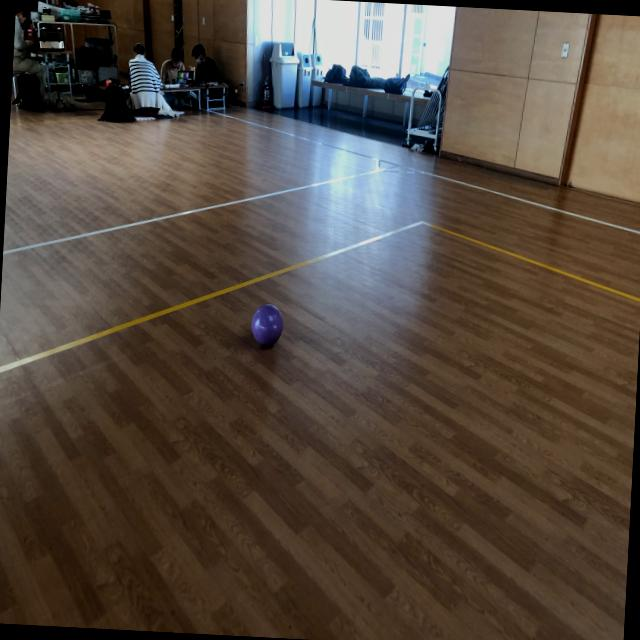purple_ball: (250, 302, 284, 348)
